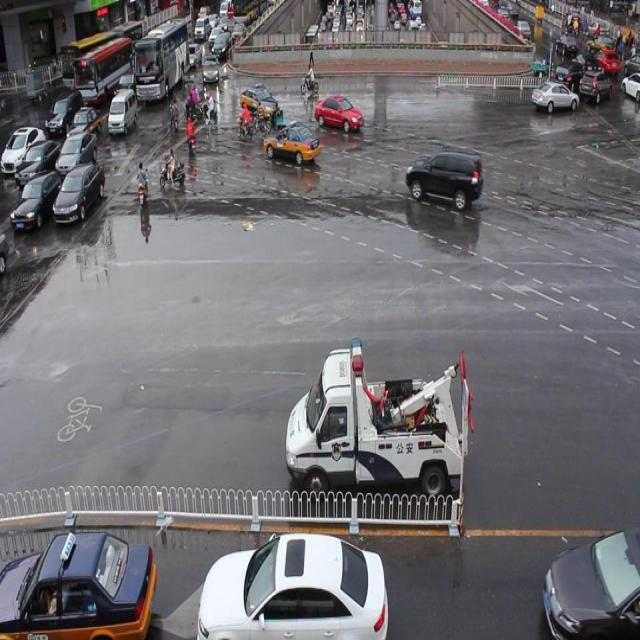bus: (285, 338, 464, 498)
car: (262, 119, 322, 167), (314, 92, 363, 134), (531, 80, 577, 114), (240, 84, 279, 122)
truck: (403, 147, 482, 211)
